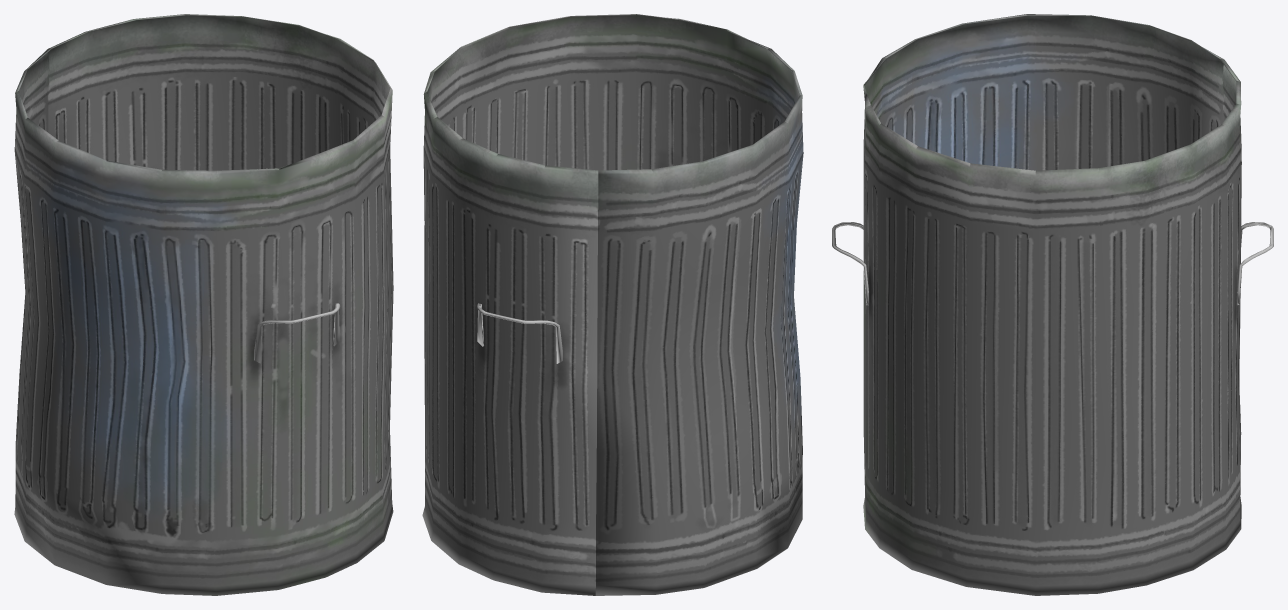
The model's file is Trash_4,2.fbx.
3 views of the same model, side by side, from view 1: azimuth 30°, elevation 25°; view 2: azimuth 150°, elevation 25°; view 3: azimuth 270°, elevation 25° (orthographic).
Parts seen in each view (by area): view 1: trash_005_LOD0; view 2: trash_005_LOD0; view 3: trash_005_LOD0.
Boxes of the visible parts, box(x1,y1,x2,y2) form: trash_005_LOD0: box(14, 14, 393, 595); trash_005_LOD0: box(422, 14, 803, 595); trash_005_LOD0: box(832, 14, 1273, 595).
Size of what is drawn, in the model's own units: 52.59 by 65.74 by 61.52.
